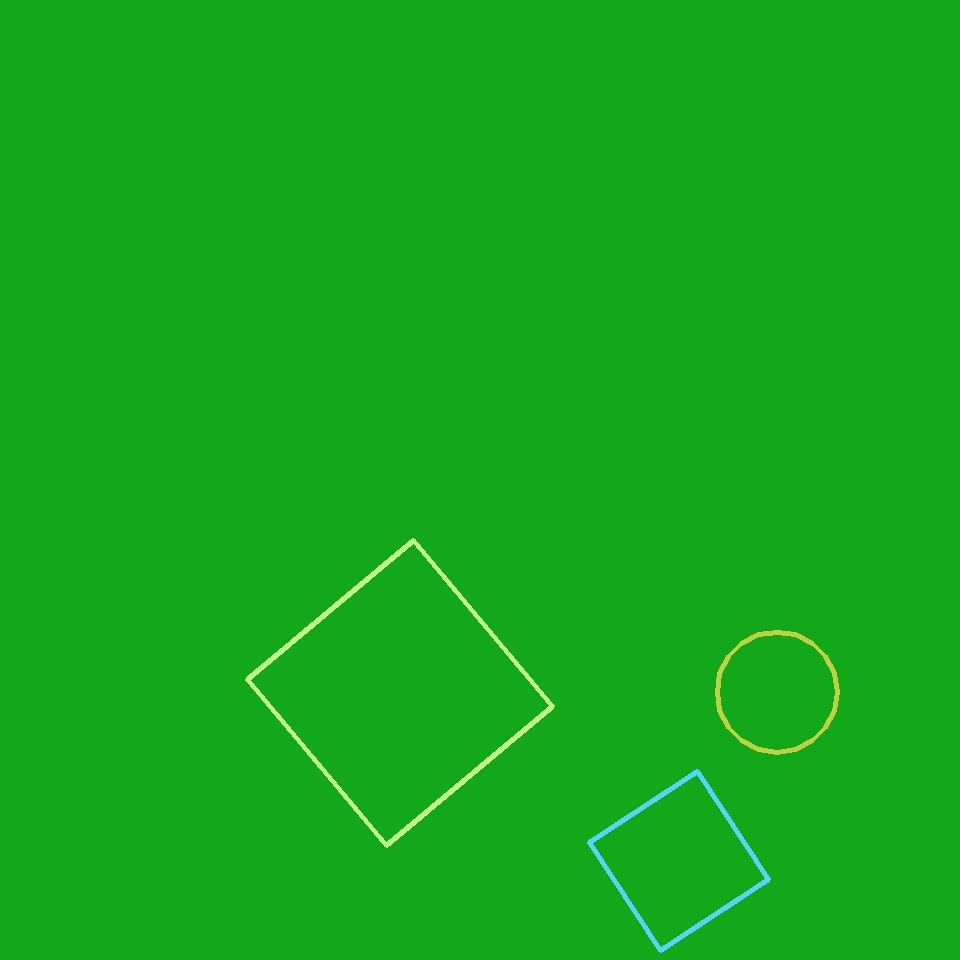square: (248, 541, 552, 846), (590, 772, 768, 950)
triangle: (717, 632, 837, 752)
